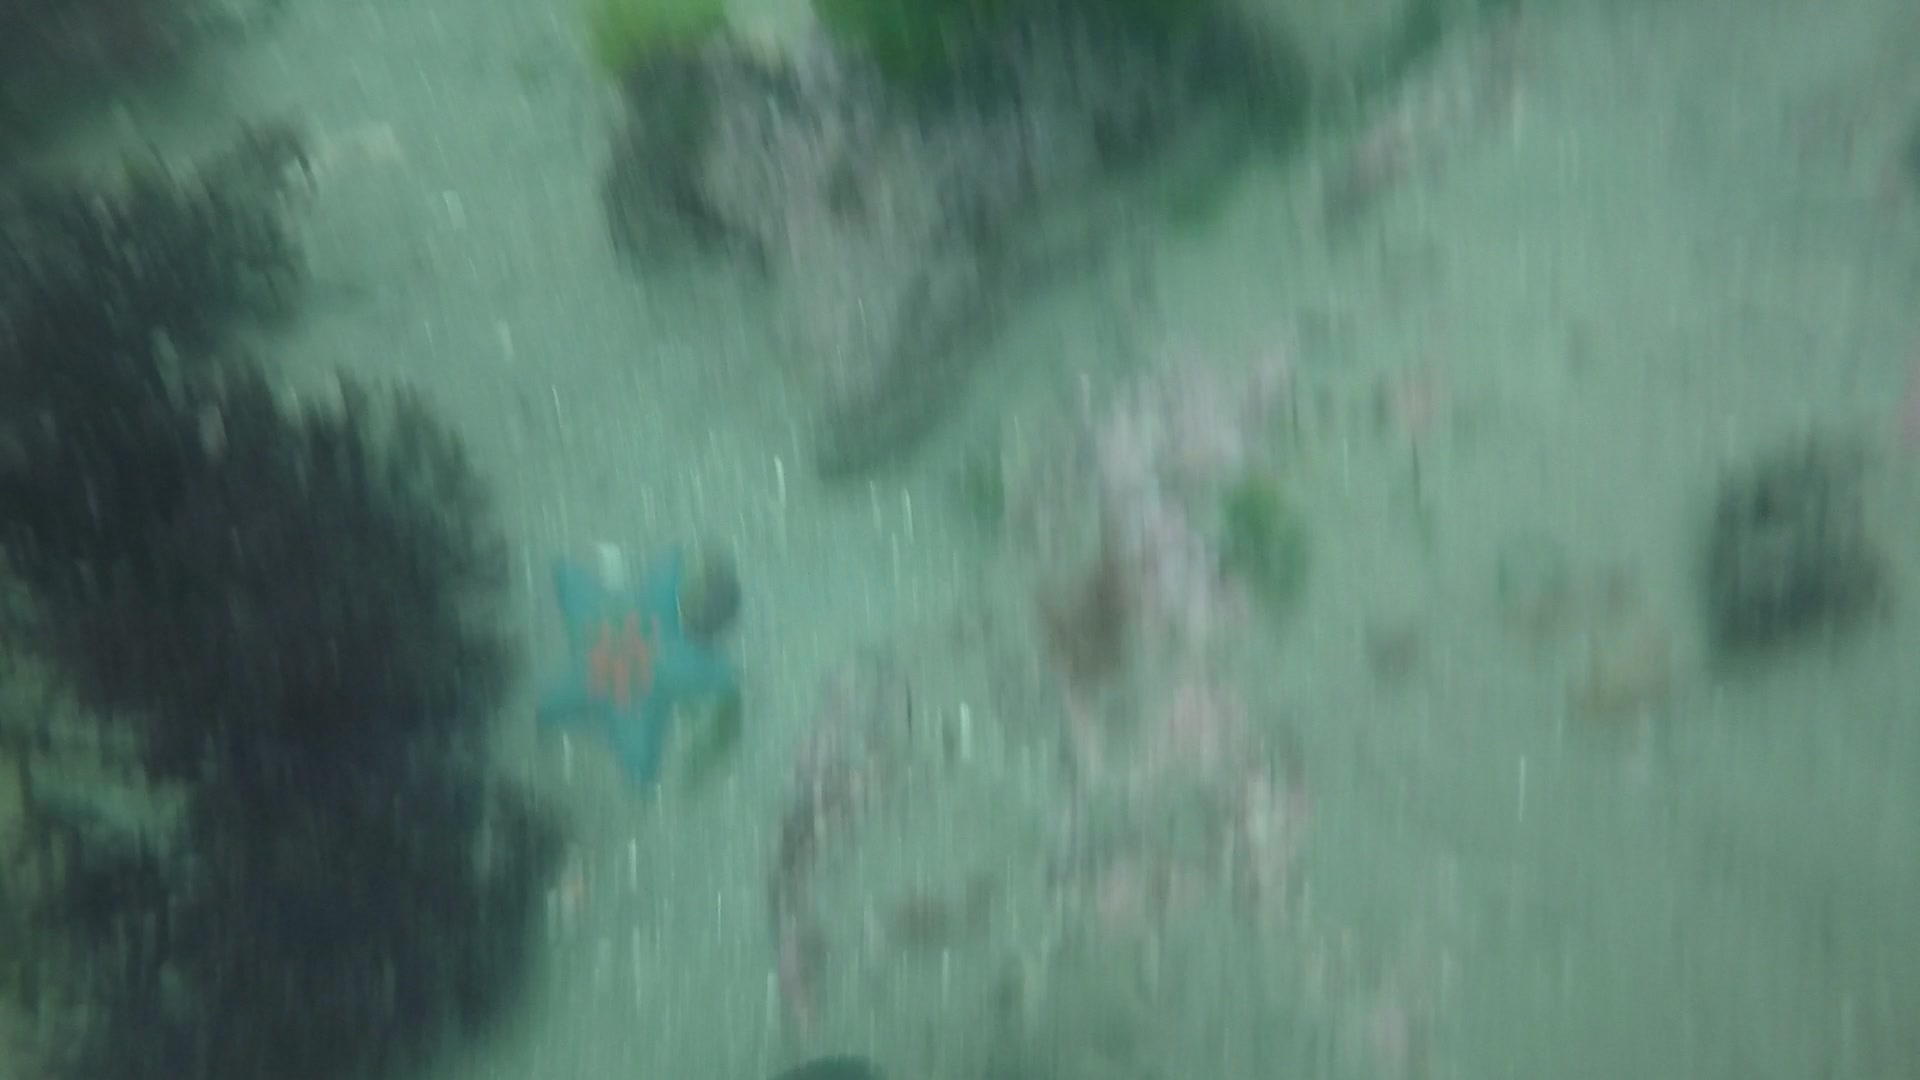starfish: (526, 551, 742, 783)
